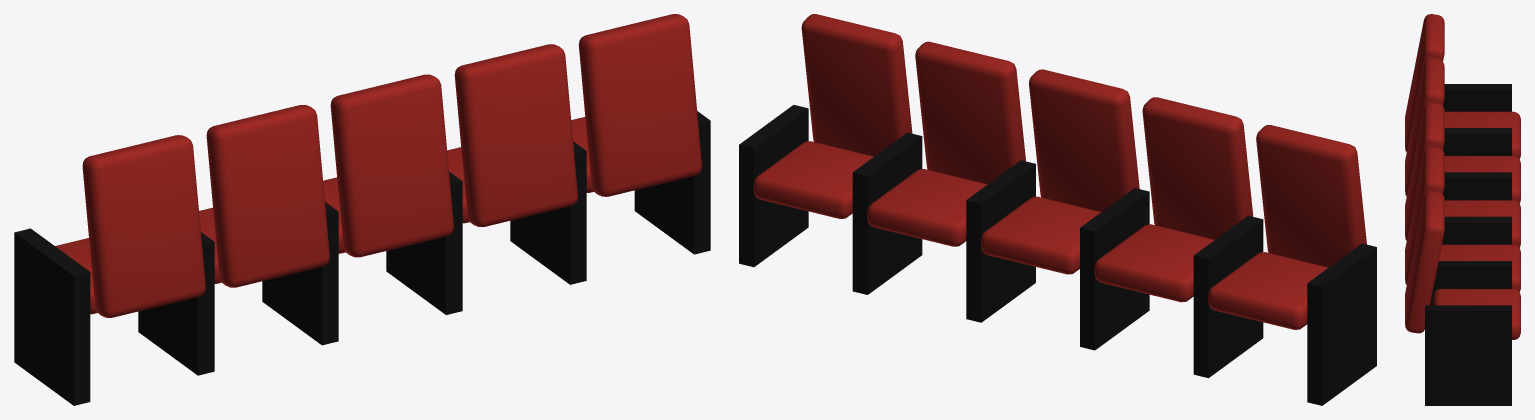
The model's file is hospitality.room.cinema_seats.glb.
3 renders of one model, left to right at view 1: azimuth 30°, elevation 25°; view 2: azimuth 150°, elevation 25°; view 3: azimuth 270°, elevation 25°, orthographic. The views are drawn at different scales.
Parts seen in each view (by area): view 1: main__fabric_red, main__plastic_black; view 2: main__fabric_red, main__plastic_black; view 3: main__plastic_black, main__fabric_red.
Part boxes in pixels (x1=…): main__fabric_red: x1=55, y1=14, x2=701, y2=317; main__plastic_black: x1=14, y1=111, x2=710, y2=405; main__fabric_red: x1=753, y1=14, x2=1366, y2=329; main__plastic_black: x1=739, y1=105, x2=1376, y2=405; main__plastic_black: x1=1425, y1=84, x2=1511, y2=405; main__fabric_red: x1=1405, y1=14, x2=1520, y2=339.
Bounding box in the file's own units: 3.08 × 1.1 × 0.6629.
